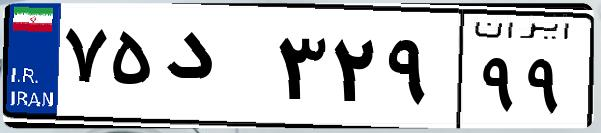2: (330, 28, 385, 110)
3: (270, 28, 330, 110)
5: (110, 28, 158, 98)
7: (57, 26, 110, 100)
9: (385, 28, 445, 110), (475, 38, 525, 113), (525, 38, 570, 115)
د: (158, 20, 270, 120)
